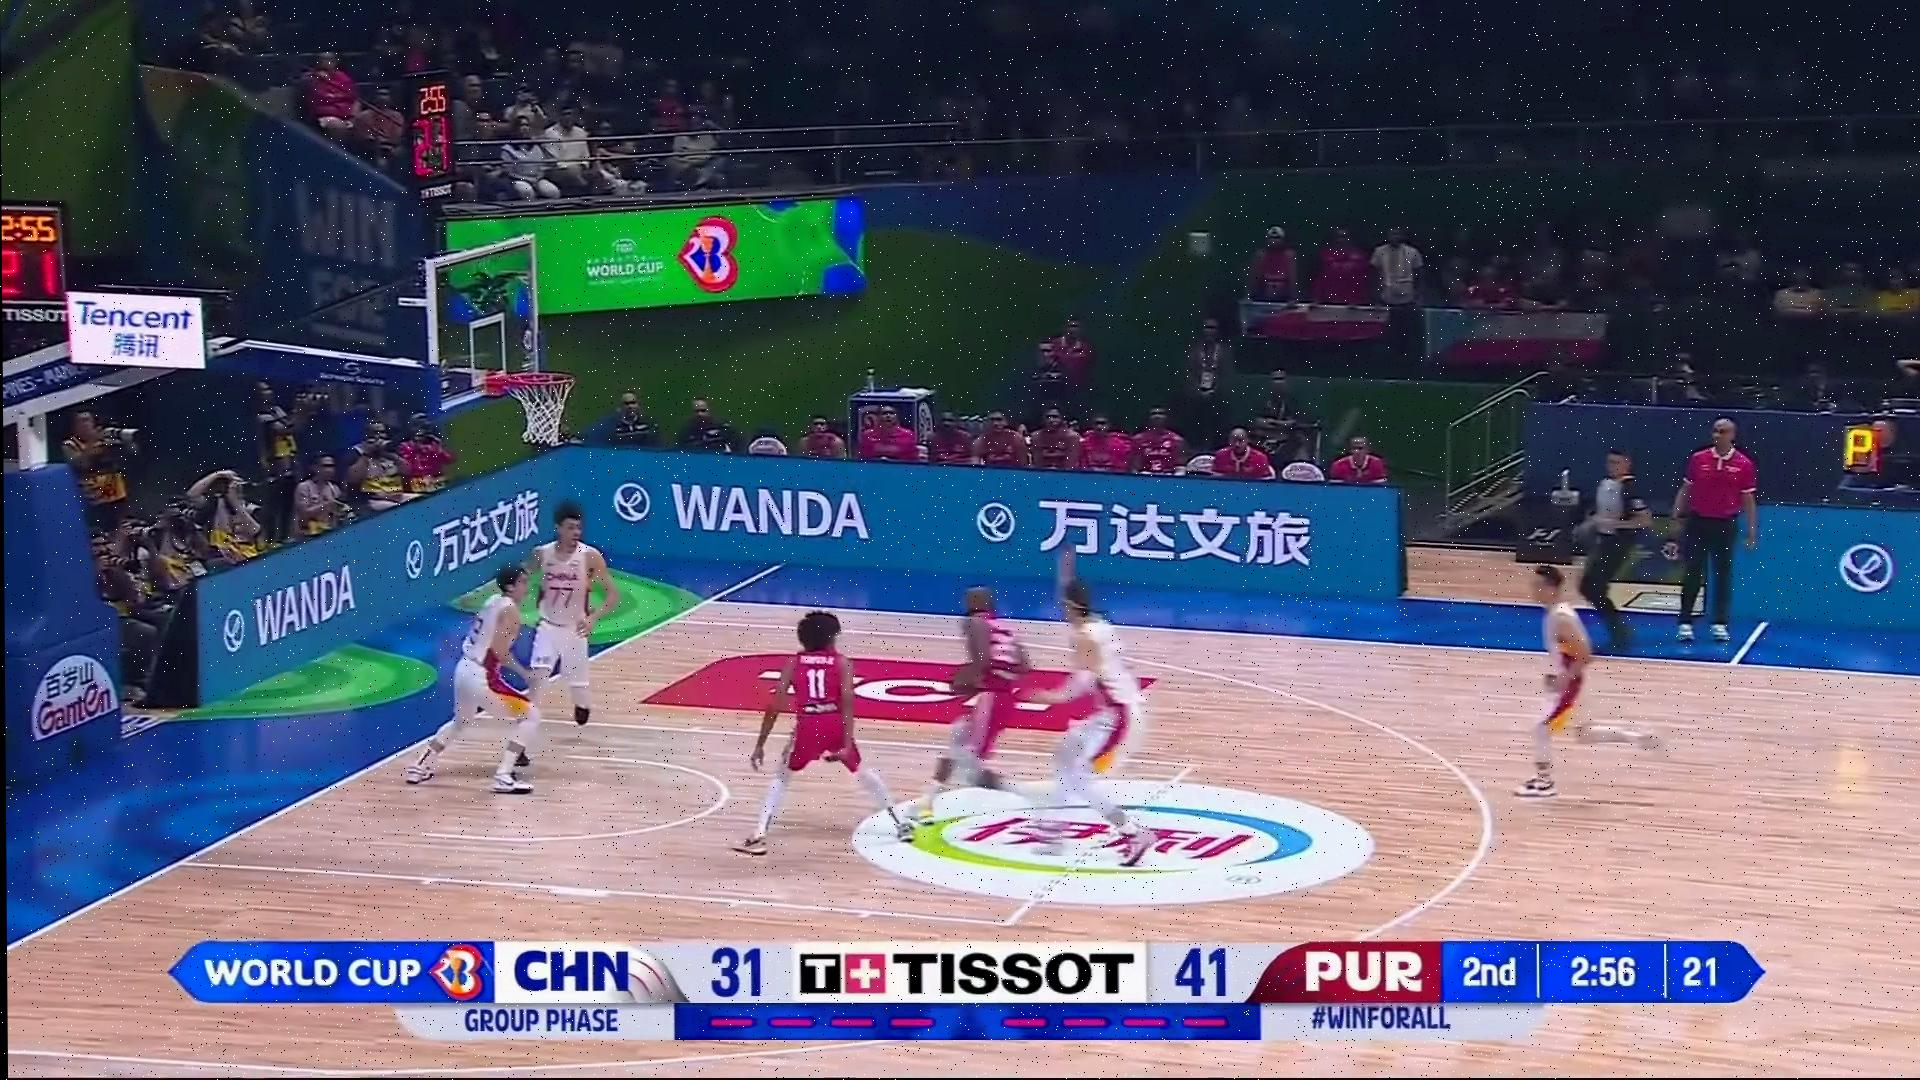no_foul: (919, 568, 1179, 844)
